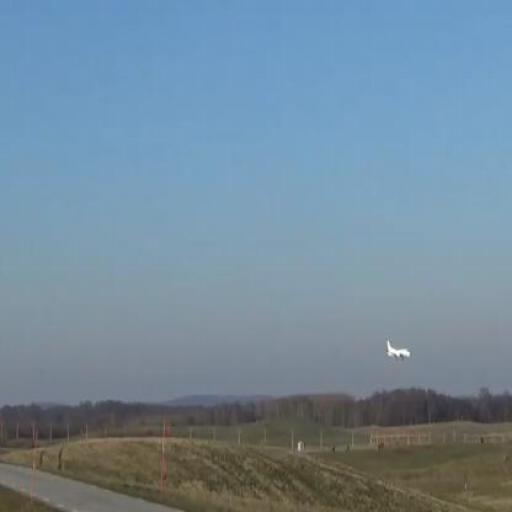aircraft: (386, 337, 412, 359)
